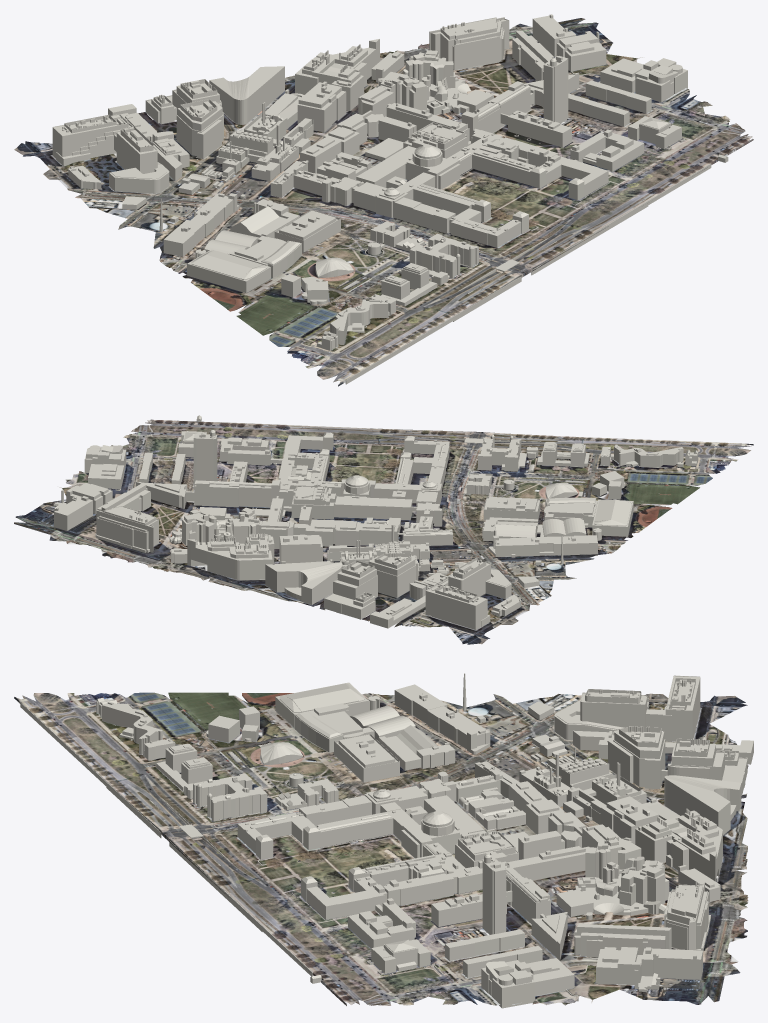
The model's file is campus.glb.
3 renders of one model, top to bottom at view 1: azimuth 30°, elevation 25°; view 2: azimuth 150°, elevation 25°; view 3: azimuth 270°, elevation 25°, orthographic. The views are drawn at different scales.
Size of the model in its own units: 842 by 102 by 840.
2 materials, 1 textured.
